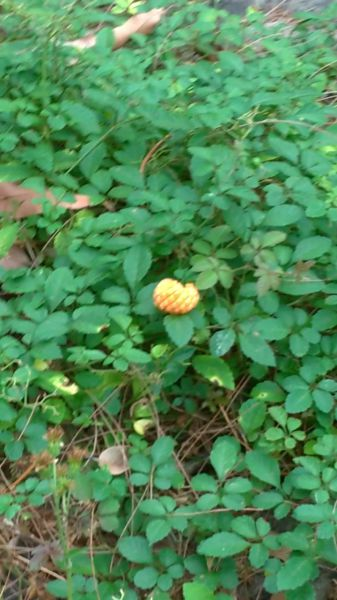eggs: (149, 275, 209, 316)
